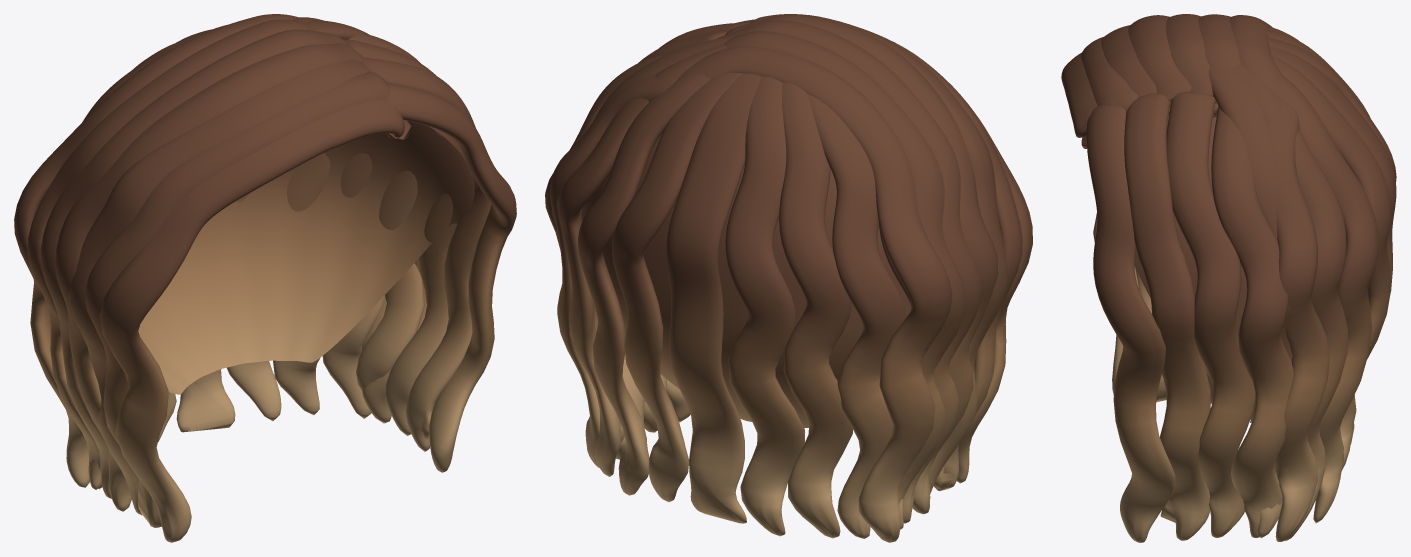
Rendered from Feminine-curls-ears261-hair-ombre.glb.
3 renders of one model, left to right at view 1: azimuth 30°, elevation 25°; view 2: azimuth 150°, elevation 25°; view 3: azimuth 270°, elevation 25°, orthographic.
Visible parts, largest first — view 1: 226 hair / Hair / sculpted 0.001, 226 hair / Hair / sculpted 1.001, 226 hair / Hair / sculpted 1.002, 226 hair / Hair / sculpted 2.001; view 2: 226 hair / Hair / sculpted 2.001, 226 hair / Hair / sculpted 0.001, 226 hair / Hair / sculpted 1.002, 226 hair / Hair / sculpted 1.001; view 3: 226 hair / Hair / sculpted 1.002, 226 hair / Hair / sculpted 2.001, 226 hair / Hair / sculpted 0.001, 226 hair / Hair / sculpted 1.001.
Boxes of the visible parts, bbox=[...] form: 226 hair / Hair / sculpted 0.001: bbox=[14, 14, 457, 542]; 226 hair / Hair / sculpted 1.001: bbox=[138, 122, 474, 394]; 226 hair / Hair / sculpted 1.002: bbox=[40, 20, 516, 527]; 226 hair / Hair / sculpted 2.001: bbox=[27, 17, 491, 515]; 226 hair / Hair / sculpted 2.001: bbox=[549, 14, 1008, 538]; 226 hair / Hair / sculpted 0.001: bbox=[578, 14, 1032, 542]; 226 hair / Hair / sculpted 1.002: bbox=[545, 14, 1022, 538]; 226 hair / Hair / sculpted 1.001: bbox=[581, 133, 911, 427]; 226 hair / Hair / sculpted 1.002: bbox=[1081, 14, 1390, 542]; 226 hair / Hair / sculpted 2.001: bbox=[1101, 14, 1396, 541]; 226 hair / Hair / sculpted 0.001: bbox=[1061, 15, 1396, 537]; 226 hair / Hair / sculpted 1.001: bbox=[1134, 115, 1255, 422].
Size of the model in its own units: 1.09 by 1.12 by 0.769.
